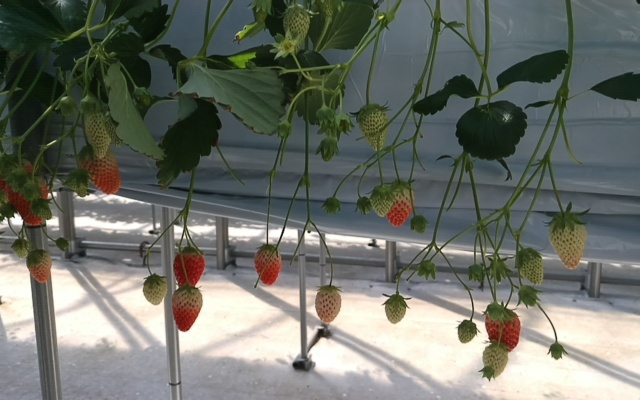GreenStrawberry: (548, 212, 589, 271), (78, 144, 121, 195), (82, 98, 117, 160), (383, 178, 415, 228), (355, 103, 386, 152), (172, 285, 203, 333), (281, 4, 311, 51), (514, 246, 545, 286), (313, 285, 343, 322), (482, 341, 509, 382), (24, 249, 54, 285), (367, 185, 392, 218), (383, 293, 408, 325), (142, 274, 167, 305), (457, 320, 478, 345), (12, 237, 30, 259)
MatureStrawberry: (6, 168, 50, 227), (483, 304, 522, 351), (172, 246, 206, 291), (253, 245, 284, 287)
